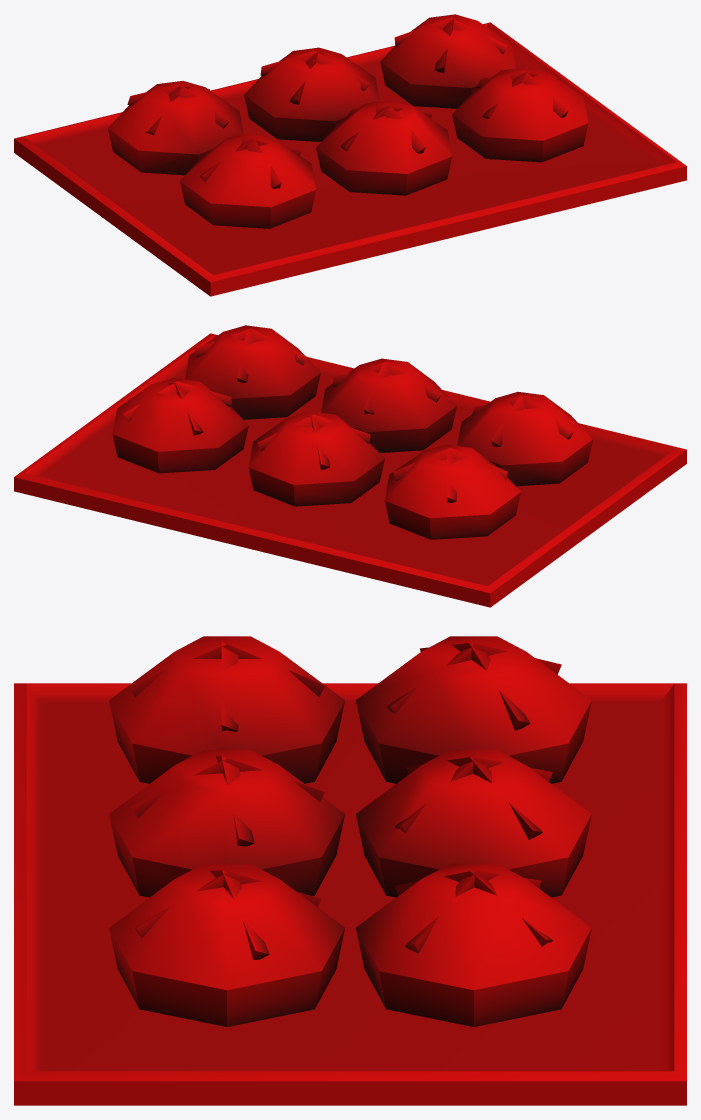
File: CI_Bakery_Bun_Tray.glb
3 renders of one model, top to bottom at view 1: azimuth 30°, elevation 25°; view 2: azimuth 150°, elevation 25°; view 3: azimuth 270°, elevation 25°, orthographic. The views are drawn at different scales.
Parts seen in each view (by area): view 1: CI_Bakery_Bun_Tray; view 2: CI_Bakery_Bun_Tray; view 3: CI_Bakery_Bun_Tray.
Boxes of the visible parts, x1,y1,x2,y2 form: CI_Bakery_Bun_Tray: (14,14,686,296); CI_Bakery_Bun_Tray: (14,325,686,607); CI_Bakery_Bun_Tray: (14,636,686,1105).
Size of the model in its own units: 0.42 by 0.0743 by 0.3.
